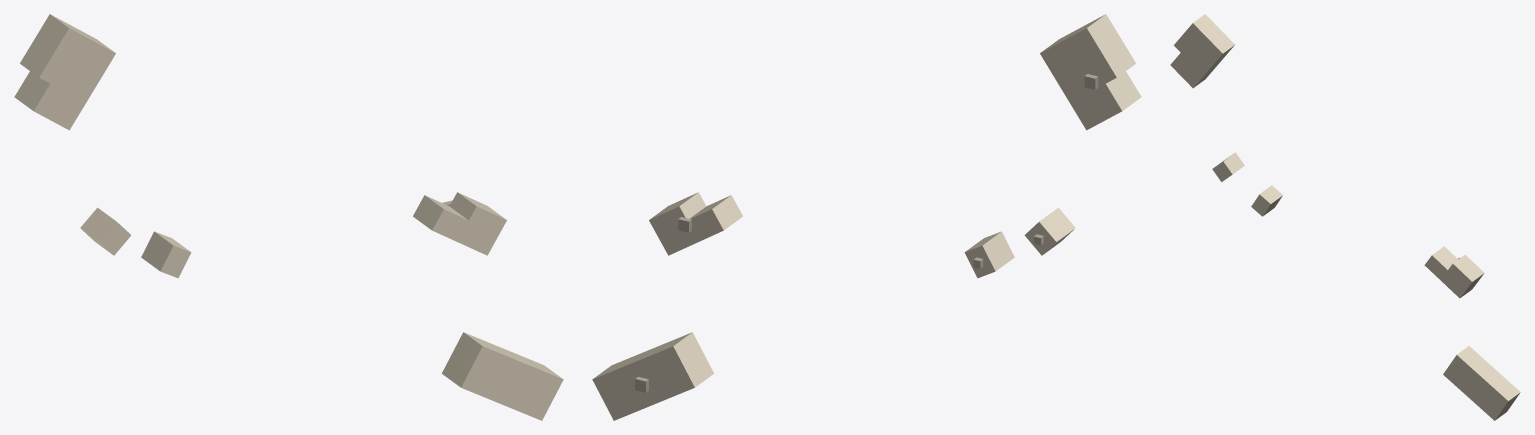
Rendered from aqaba_3501_2949.glb.
3 renders of one model, left to right at view 1: azimuth 30°, elevation 25°; view 2: azimuth 150°, elevation 25°; view 3: azimuth 330°, elevation 25°, orthographic. The views are drawn at different scales.
Parts seen in each view (by area): view 1: Building_.004, Building_, Building_.001, Building_.002, Building_.003; view 2: Building_.004, Building_, Building_.001, Building_.002, Building_.003; view 3: Building_, Building_.004, Building_.001, Building_.002, Building_.003.
Boxes of the visible parts, x1=… form: Building_.004: x1=14, y1=14, x2=115, y2=130; Building_: x1=442, y1=332, x2=563, y2=420; Building_.001: x1=413, y1=192, x2=506, y2=255; Building_.002: x1=141, y1=231, x2=191, y2=278; Building_.003: x1=80, y1=207, x2=131, y2=255; Building_.004: x1=1040, y1=14, x2=1141, y2=130; Building_: x1=592, y1=332, x2=713, y2=420; Building_.001: x1=649, y1=192, x2=742, y2=255; Building_.002: x1=964, y1=231, x2=1014, y2=278; Building_.003: x1=1024, y1=207, x2=1075, y2=255; Building_: x1=1443, y1=346, x2=1520, y2=420; Building_.004: x1=1170, y1=14, x2=1234, y2=88; Building_.001: x1=1424, y1=246, x2=1484, y2=298; Building_.002: x1=1251, y1=185, x2=1282, y2=216; Building_.003: x1=1212, y1=152, x2=1244, y2=181.
Bounding box in the file's own units: 119 × 109 × 8.7.
